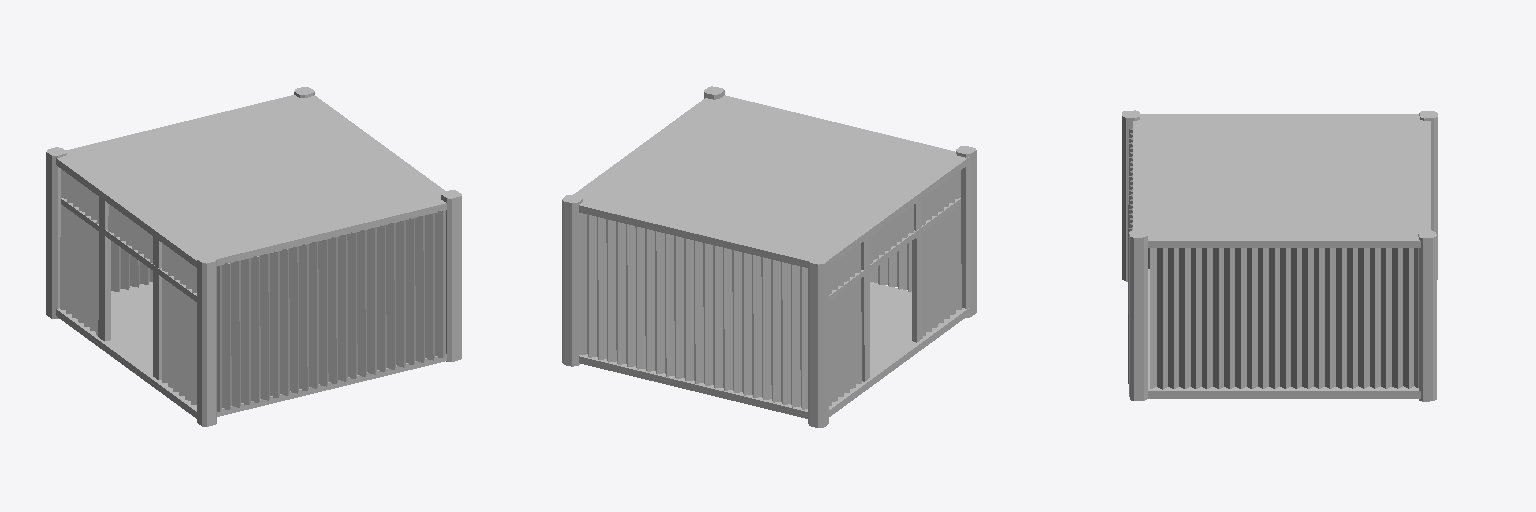
The model's file is shed.obj.
3 renders of one model, left to right at view 1: azimuth 30°, elevation 25°; view 2: azimuth 150°, elevation 25°; view 3: azimuth 270°, elevation 25°, orthographic.
Parts seen in each view (by area): view 1: Plane; view 2: Plane; view 3: Plane.
Part boxes in pixels (left/top/right/bottom): Plane: left=46, top=87, right=461, bottom=426; Plane: left=562, top=86, right=976, bottom=427; Plane: left=1122, top=110, right=1437, bottom=401.
Size of the model in its own units: 11.74 by 7.01 by 12.09.